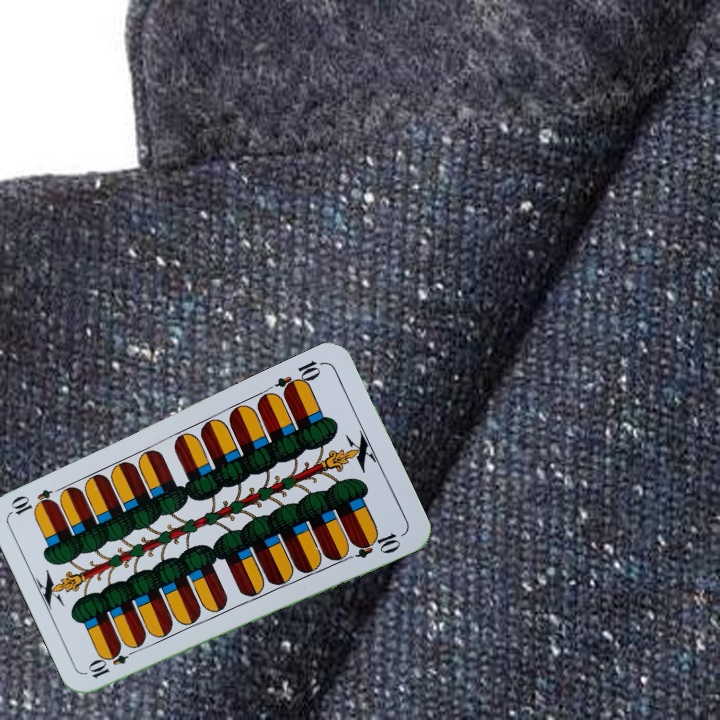E10: (271, 356, 327, 398), (84, 643, 141, 681)
